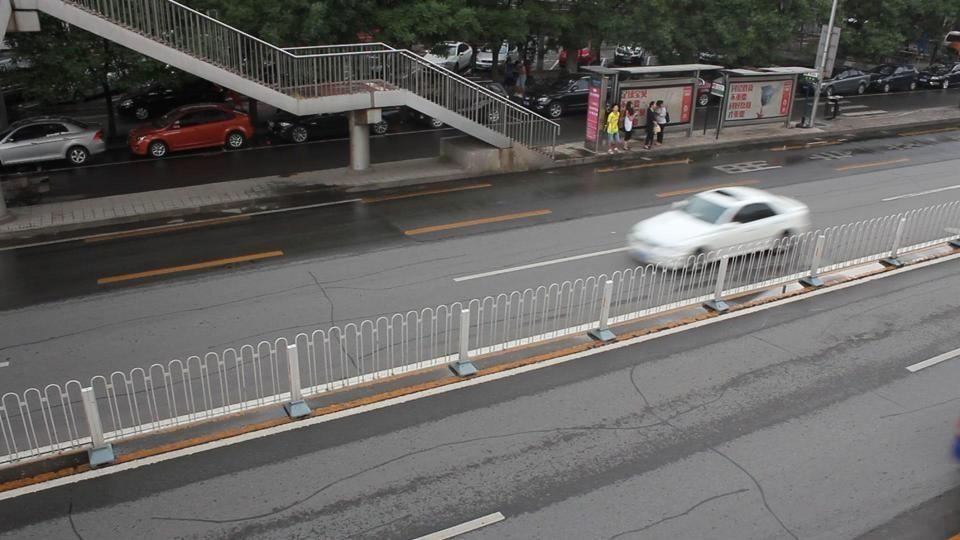car: (626, 184, 811, 268), (127, 104, 256, 160), (0, 117, 106, 172), (525, 75, 601, 118), (261, 112, 348, 145), (117, 85, 190, 119), (865, 68, 927, 93), (425, 41, 474, 72), (821, 69, 871, 95), (921, 65, 960, 89), (472, 48, 495, 71)
